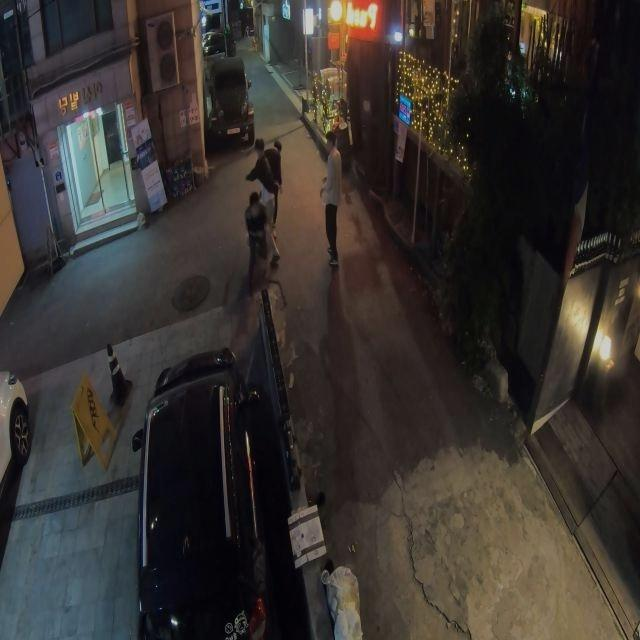fight: (243, 135, 285, 240)
non-fight: (317, 130, 345, 266), (241, 192, 274, 293)
